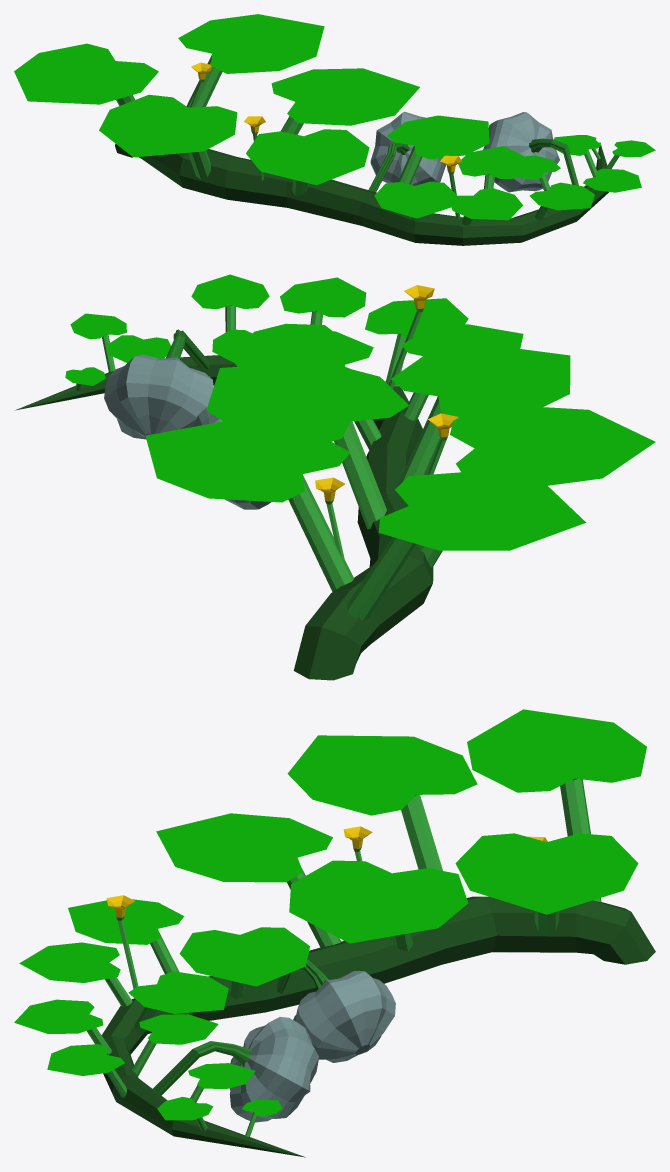
The model's file is maturepumpkin.fbx.
3 views of the same model, one above another, from view 1: azimuth 30°, elevation 25°; view 2: azimuth 150°, elevation 25°; view 3: azimuth 270°, elevation 25° (orthographic). The views are drawn at different scales.
Parts seen in each view (by area): view 1: Main stem, Leaf, Leaf.001, Leaf.002, Leaf.004, Leaf.003, Leaf.005, Fruit.001, Fruit, Leaf.006, Leaf.007, Leaf.008 (+7 smaller); view 2: Leaf, Leaf.004, Main stem, Leaf.002, Leaf.001, Leaf.003, Fruit.001, Leaf.005, Leaf.008, Leaf.006, Leaf.009, Leaf.011 (+7 smaller); view 3: Main stem, Leaf.001, Leaf.004, Leaf, Leaf.002, Leaf.003, Fruit.001, Fruit, Leaf.005, Leaf.006, Leaf.008, Leaf.007 (+7 smaller).
Part boxes in pixels (<box>): Main stem: <box>115,142,608,245</box>; Leaf: <box>178,14,324,107</box>; Leaf.001: <box>99,94,237,179</box>; Leaf.002: <box>271,68,419,134</box>; Leaf.004: <box>14,43,158,105</box>; Leaf.003: <box>246,129,369,195</box>; Leaf.005: <box>387,115,489,184</box>; Fruit.001: <box>483,112,578,192</box>; Fruit: <box>368,111,446,192</box>; Leaf.006: <box>374,181,456,220</box>; Leaf.007: <box>458,146,528,188</box>; Leaf.008: <box>451,188,522,225</box>; Leaf: <box>145,418,353,591</box>; Leaf.004: <box>347,471,585,621</box>; Main stem: <box>14,355,433,680</box>; Leaf.002: <box>206,361,408,529</box>; Leaf.001: <box>417,405,655,567</box>; Leaf.003: <box>391,344,570,486</box>; Fruit.001: <box>104,329,213,439</box>; Leaf.005: <box>224,328,381,449</box>; Leaf.008: <box>365,298,468,386</box>; Leaf.006: <box>401,324,523,420</box>; Leaf.009: <box>280,277,366,324</box>; Leaf.011: <box>191,274,269,332</box>; Main stem: <box>101,896,655,1157</box>; Leaf.001: <box>287,735,477,870</box>; Leaf.004: <box>467,709,646,902</box>; Leaf: <box>455,833,638,936</box>; Leaf.002: <box>289,860,468,951</box>; Leaf.003: <box>156,813,341,947</box>; Fruit.001: <box>151,1017,319,1122</box>; Fruit: <box>276,959,395,1062</box>; Leaf.005: <box>179,927,309,999</box>; Leaf.006: <box>68,899,184,973</box>; Leaf.008: <box>19,942,132,1006</box>; Leaf.007: <box>128,971,228,1036</box>.
Size of the model in its own units: 246 by 54.75 by 210.
